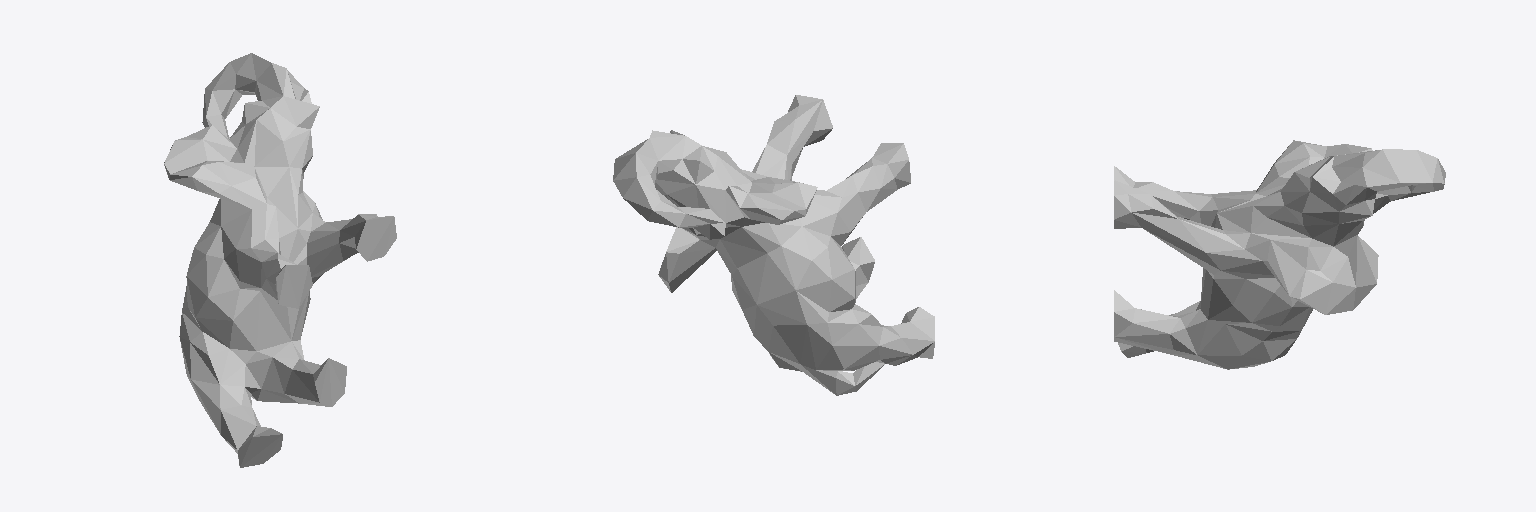
The model's file is elephant.obj.
The picture shows the model from 3 angles: view 1: azimuth 30°, elevation 25°; view 2: azimuth 150°, elevation 25°; view 3: azimuth 270°, elevation 25°; orthographic projection.
Visible parts, largest first — view 1: elephant; view 2: elephant; view 3: elephant.
Part boxes in pixels (x1,y1,x2,y2): elephant: (164, 53, 396, 467); elephant: (613, 95, 934, 395); elephant: (1114, 140, 1445, 369).
Size of the model in its own units: 5.27 by 7.56 by 8.17.